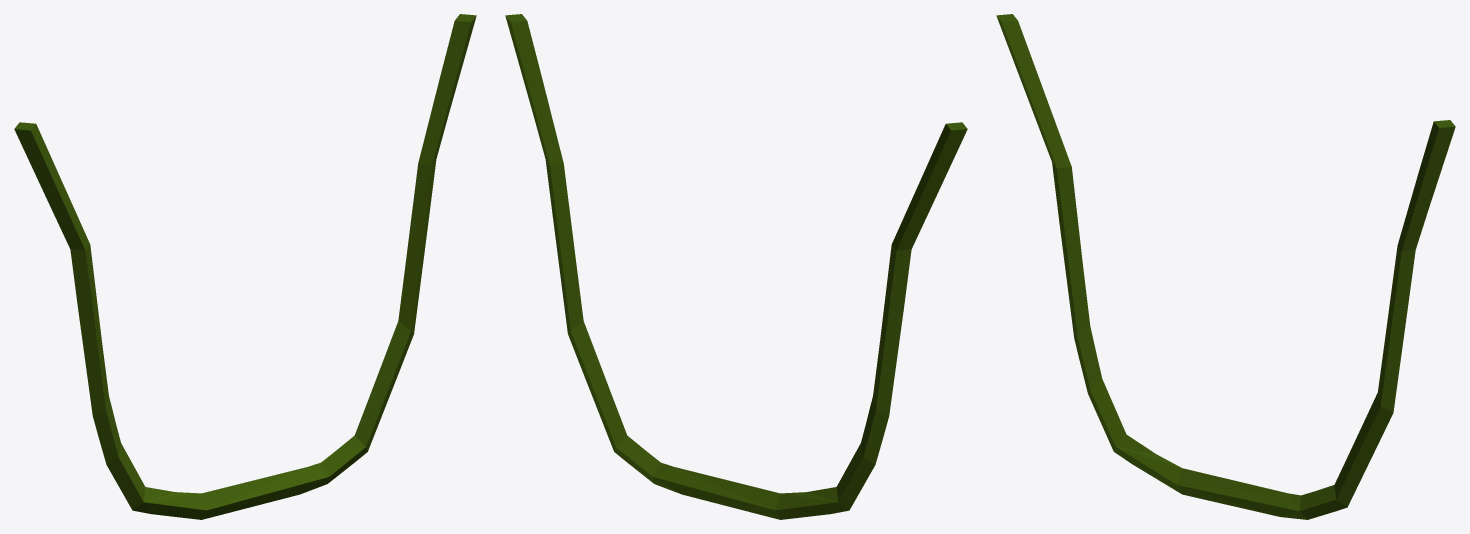
Rendered from Prop_Vegetation_Jungle_Vine_Hanging_03.FBX.
The picture shows the model from 3 angles, left to right: view 1: azimuth 30°, elevation 25°; view 2: azimuth 150°, elevation 25°; view 3: azimuth 330°, elevation 25°; orthographic projection.
Parts seen in each view (by area): view 1: Prop_Vegetation_Jungle_Vine_Hanging_03; view 2: Prop_Vegetation_Jungle_Vine_Hanging_03; view 3: Prop_Vegetation_Jungle_Vine_Hanging_03.
Boxes of the visible parts, x1,y1,x2,y2 form: Prop_Vegetation_Jungle_Vine_Hanging_03: (14, 14, 476, 519); Prop_Vegetation_Jungle_Vine_Hanging_03: (505, 14, 967, 519); Prop_Vegetation_Jungle_Vine_Hanging_03: (996, 14, 1455, 519).
Size of the model in its own units: 2016 by 1822 by 84.6.
